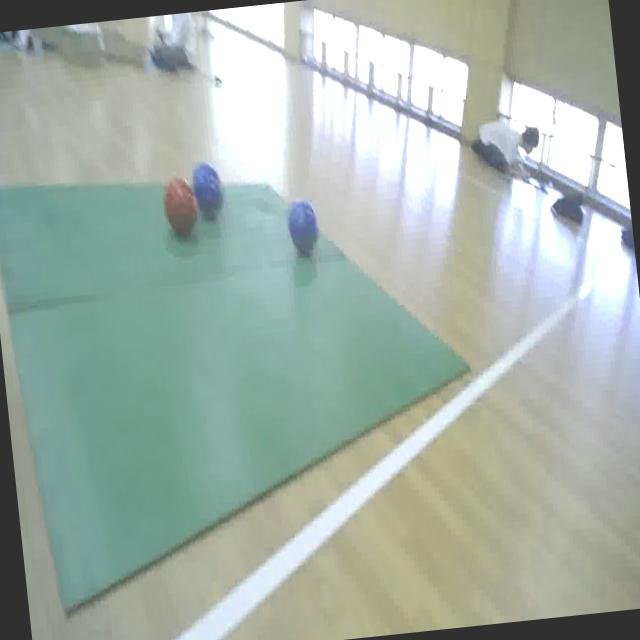blue_ball: (281, 194, 321, 260), (189, 159, 226, 219)
red_ball: (162, 174, 200, 238)
